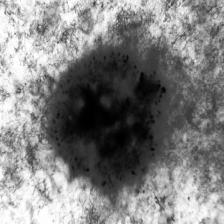Benign Marking or Mole: (50, 50, 170, 193)
